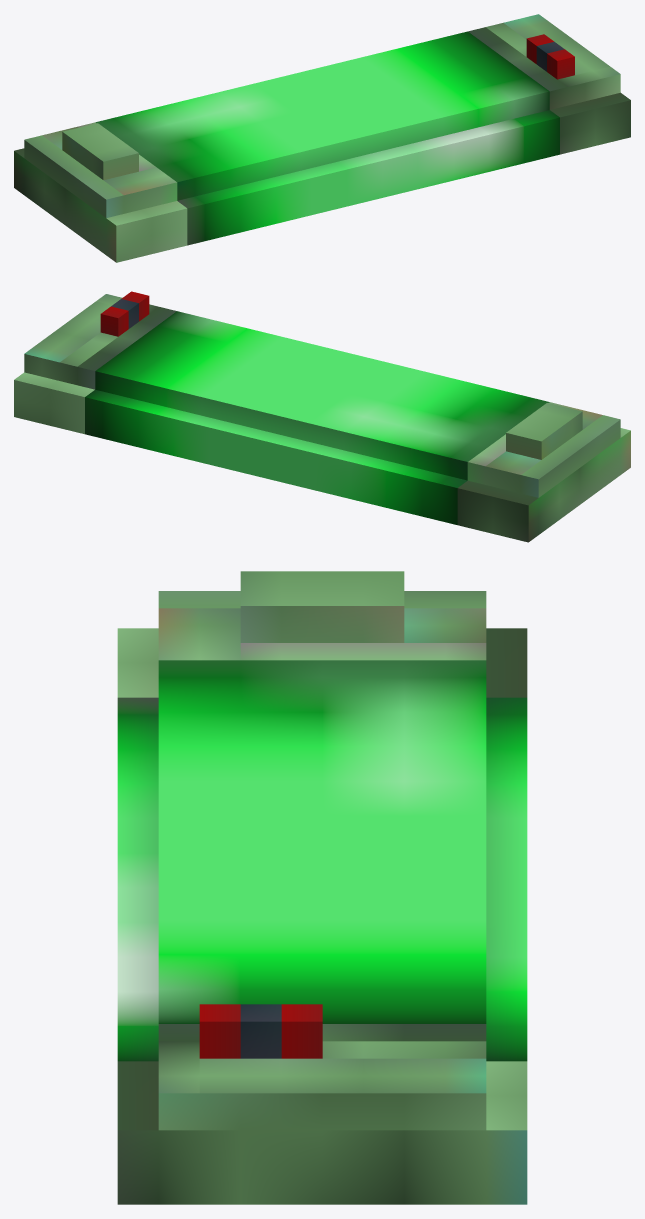
File: Neon_Large_00.fbx
The picture shows the model from 3 angles, top to bottom: view 1: azimuth 30°, elevation 25°; view 2: azimuth 150°, elevation 25°; view 3: azimuth 270°, elevation 25°; orthographic projection. The views are drawn at different scales.
Visible parts, largest first — view 1: Neon_Large_00; view 2: Neon_Large_00; view 3: Neon_Large_00.
Boxes of the visible parts, x1,y1,x2,y2 form: Neon_Large_00: (14,14,630,262); Neon_Large_00: (14,291,630,542); Neon_Large_00: (117,571,527,1204).
Bounding box in the file's own units: 145 × 20 × 50.
